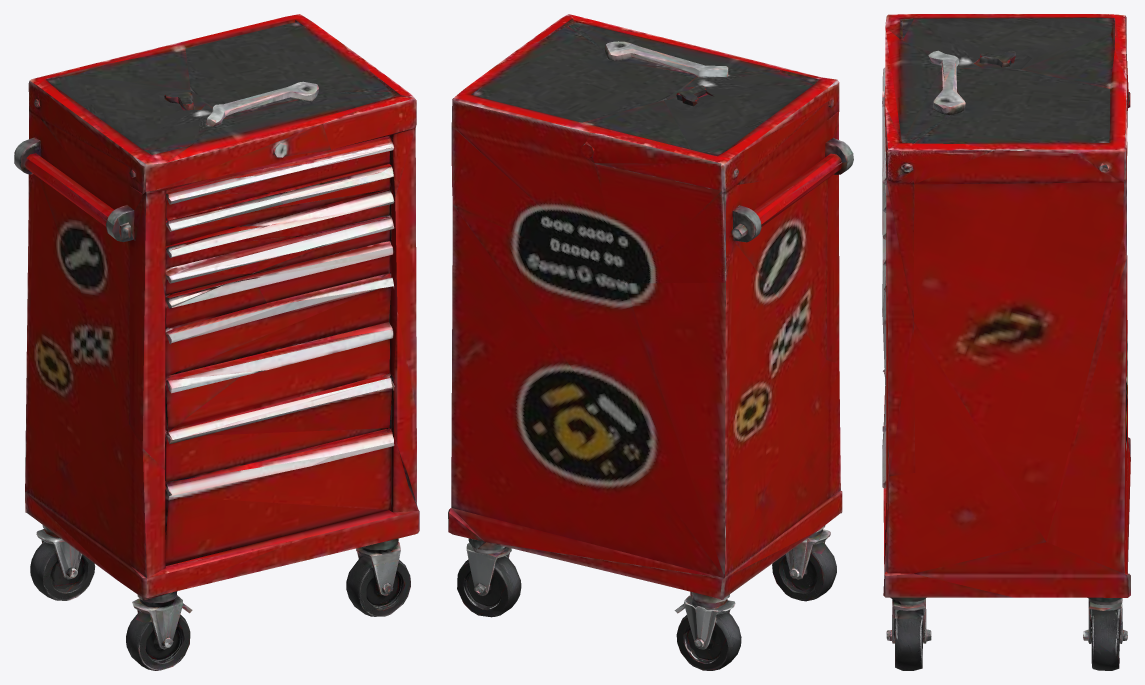
The model's file is chest.glb.
3 renders of one model, left to right at view 1: azimuth 30°, elevation 25°; view 2: azimuth 150°, elevation 25°; view 3: azimuth 270°, elevation 25°, orthographic. The views are drawn at different scales.
Size of the model in its own units: 1.12 by 1.9 by 0.7878.
1 material, 1 textured.
